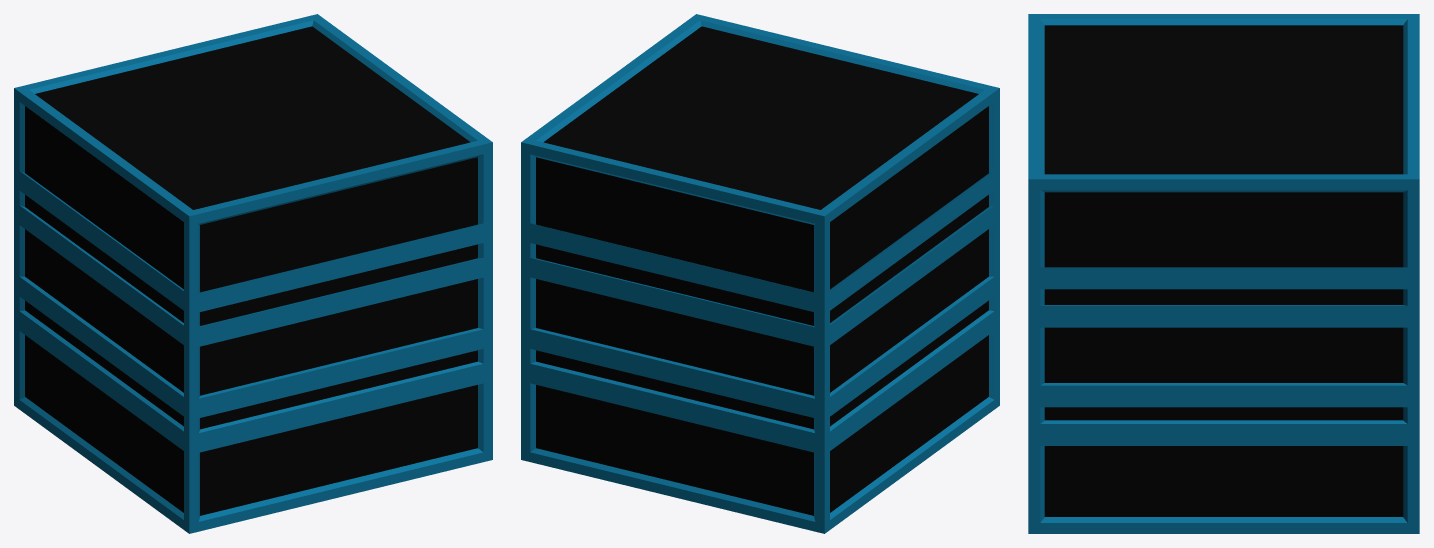
The model's file is wall.fbx.
3 renders of one model, left to right at view 1: azimuth 30°, elevation 25°; view 2: azimuth 150°, elevation 25°; view 3: azimuth 270°, elevation 25°, orthographic. The views are drawn at different scales.
Parts seen in each view (by area): view 1: Wall; view 2: Wall; view 3: Wall.
Boxes of the visible parts, box(x1,y1,x2,y2) form: Wall: box(14, 14, 492, 533); Wall: box(521, 14, 999, 533); Wall: box(1028, 14, 1419, 533).
Size of the model in its own units: 2 by 2 by 2.
